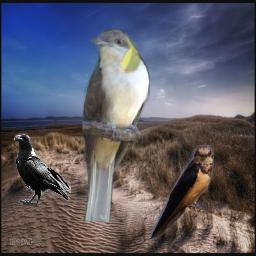Crow: (12, 133, 71, 208)
Cuckoo: (79, 29, 150, 222)
Swallow: (149, 145, 214, 242)
